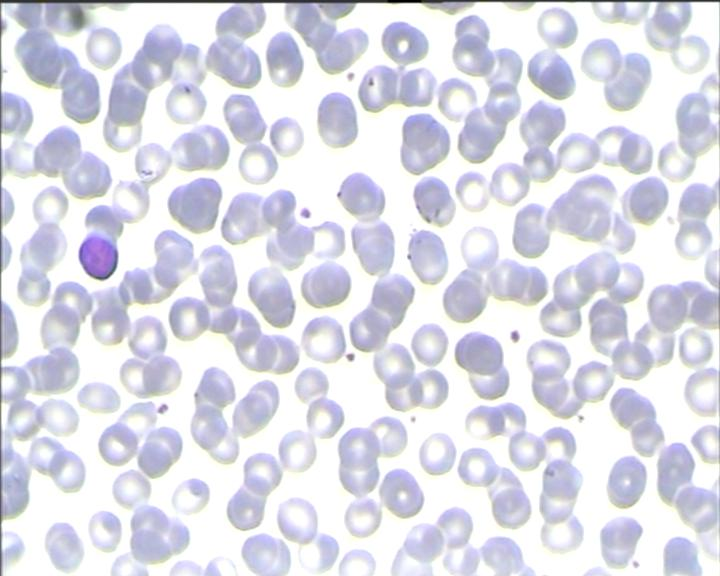lymp: (72, 229, 121, 286)
